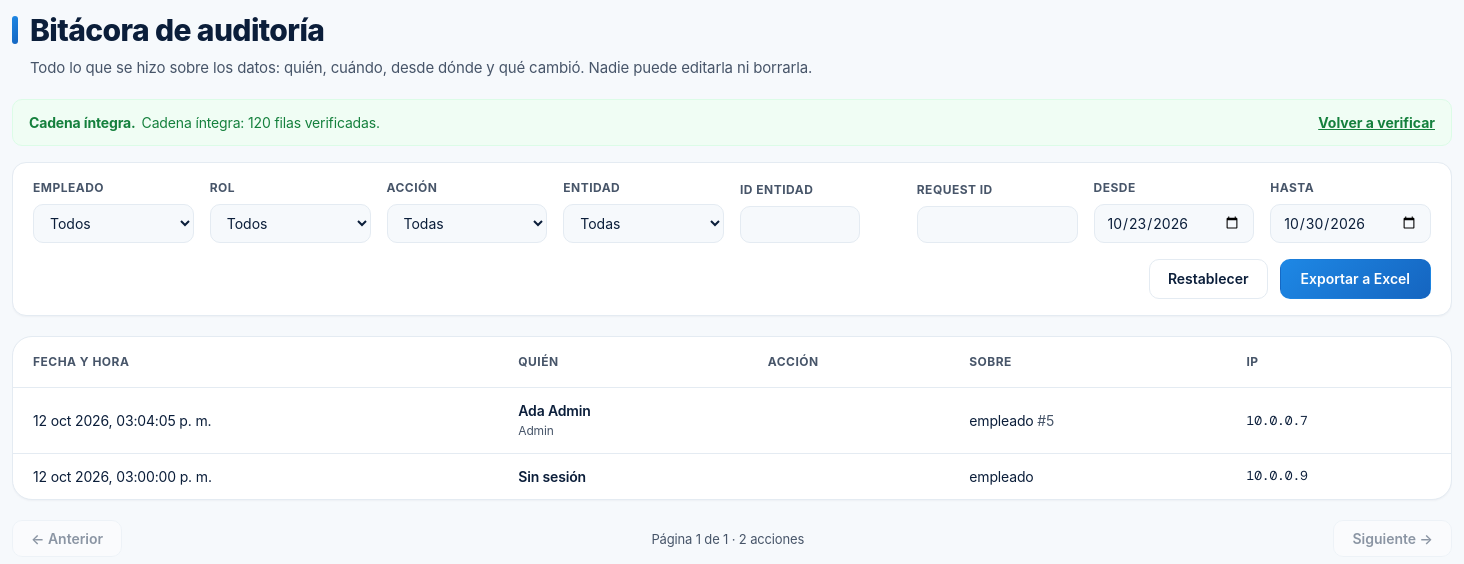
Test: exportación › si el backend pide acotar el filtro, se enseña su motivo
The width and height of the screenshot is (1464, 564).
Expected: the text "Ada Admin" is shown, [518,402,591,419]
Click the button "Exportar a Excel".
click(1355, 279)  # box [1280,259,1431,299]
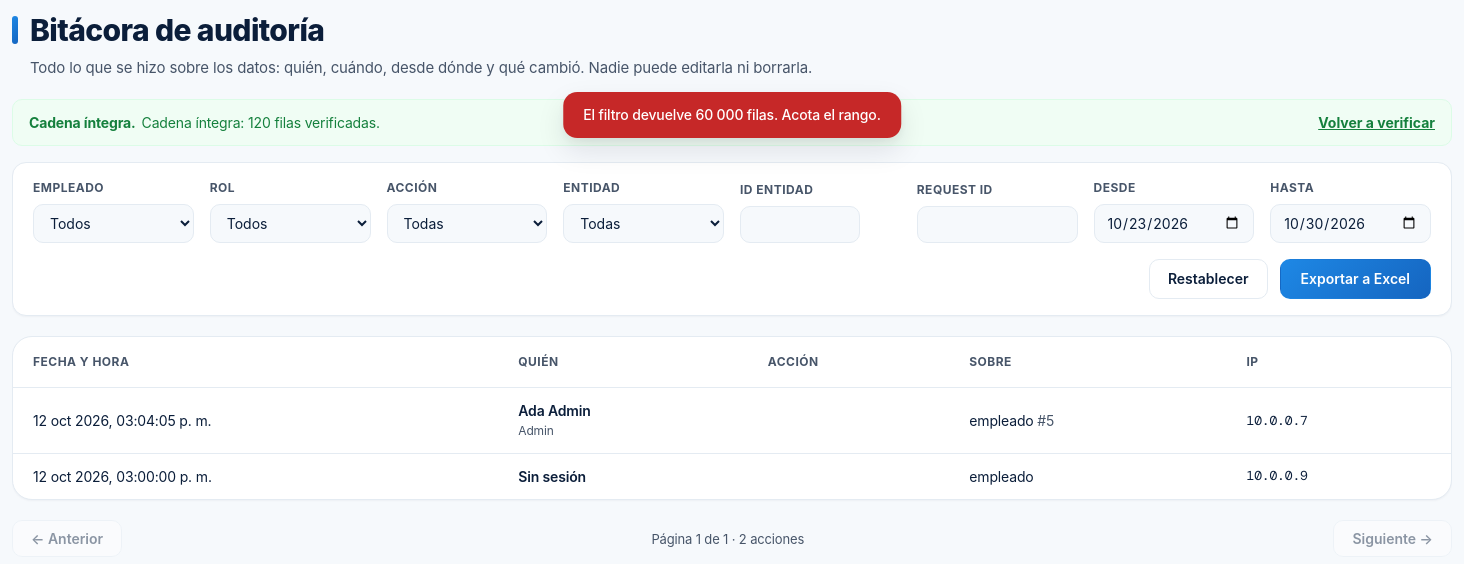
Expected: the text "El filtro devuelve 60 000 filas. Acota el rango." is shown, [563,92,901,138]
